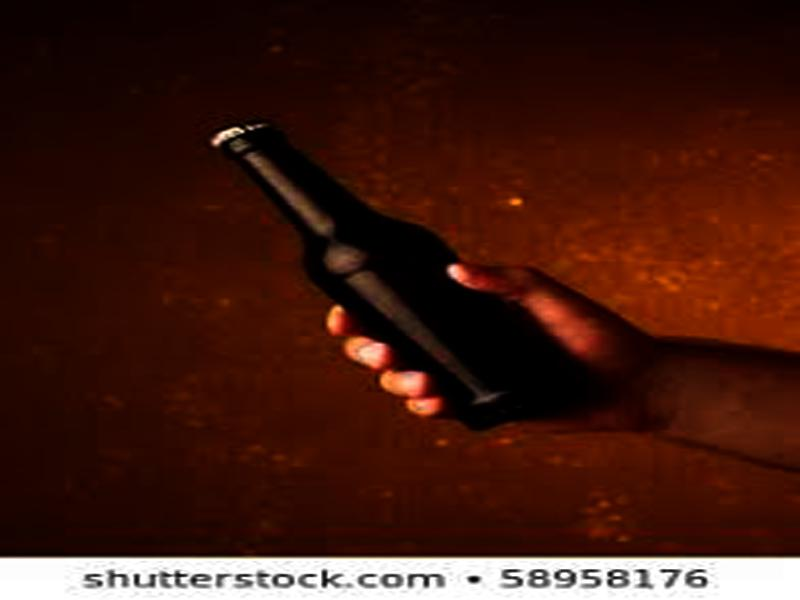Beer: (204, 119, 604, 430)
